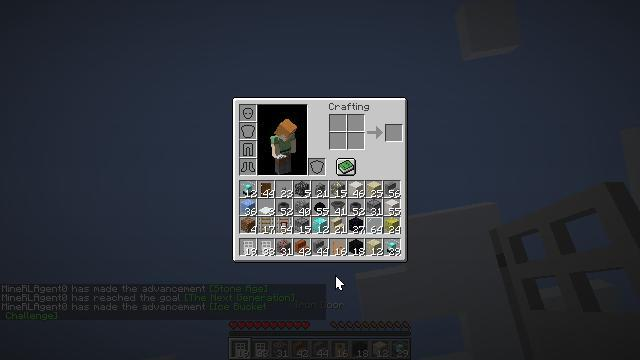cursor: (335, 275, 345, 291)
